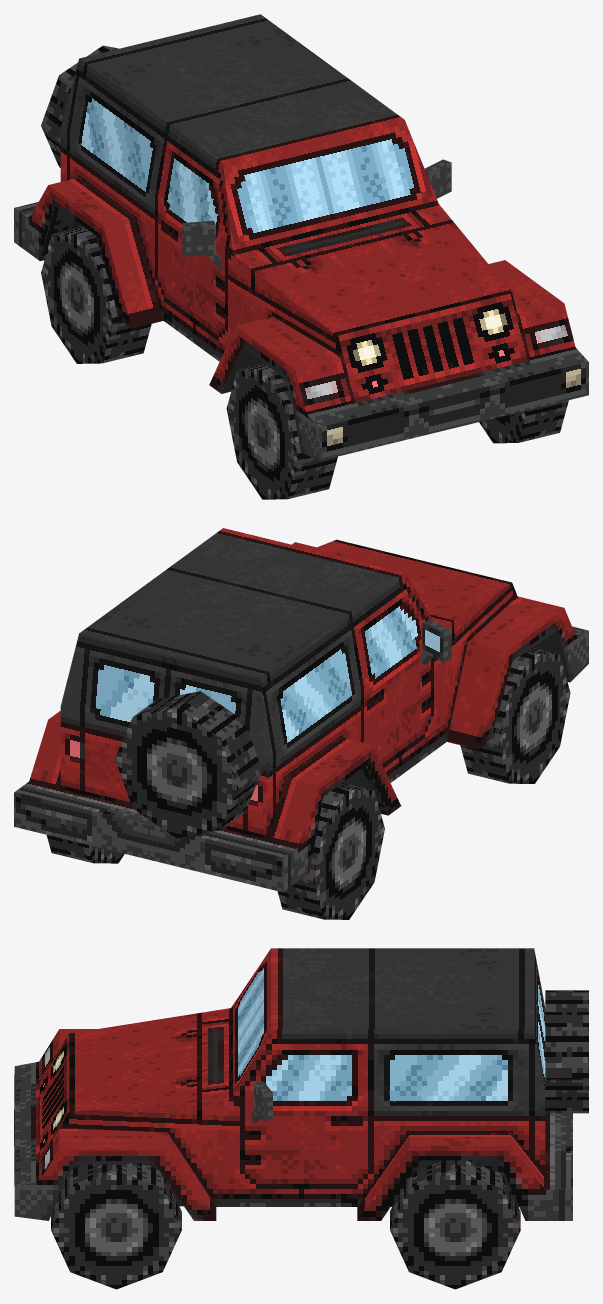
The model's file is psx_jeep.glb.
3 views of the same model, one above another, from view 1: azimuth 30°, elevation 25°; view 2: azimuth 150°, elevation 25°; view 3: azimuth 270°, elevation 25° (orthographic). The views are drawn at different scales.
Visible parts, largest first — view 1: Body, FrontWheel_R, RearWheels, FrontWheel_L; view 2: Body, RearWheels, FrontWheel_R; view 3: Body, FrontWheel_L, RearWheels.
Boxes of the visible parts, bbox=[...] form: Body: bbox=[14, 14, 588, 460]; FrontWheel_R: bbox=[226, 363, 337, 499]; RearWheels: bbox=[41, 226, 151, 363]; FrontWheel_L: bbox=[479, 400, 568, 443]; Body: bbox=[14, 528, 588, 892]; RearWheels: bbox=[46, 782, 384, 919]; FrontWheel_R: bbox=[460, 648, 570, 783]; Body: bbox=[14, 948, 588, 1220]; FrontWheel_L: bbox=[51, 1163, 181, 1289]; RearWheels: bbox=[390, 1160, 520, 1289].
Bounding box in the file's own units: 2.17 × 2 × 4.34.
Materials: 1 (1 with a texture image).
